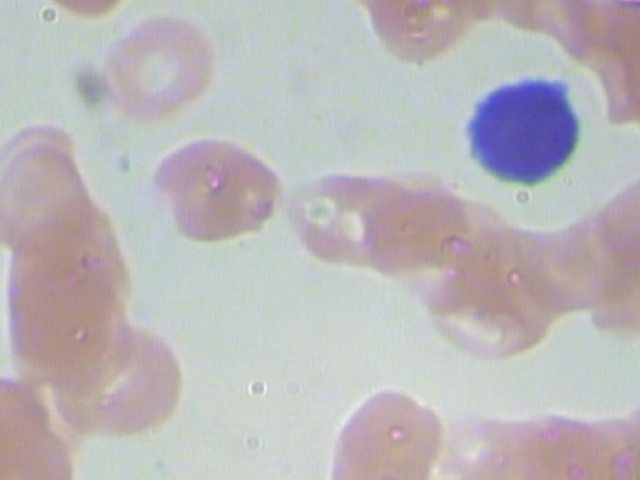RBC: (0, 239, 127, 386), (44, 316, 196, 437), (289, 157, 426, 273), (148, 133, 280, 248), (92, 13, 227, 123), (320, 382, 449, 480), (0, 142, 98, 251), (508, 215, 612, 313), (446, 406, 558, 480), (579, 402, 640, 480), (636, 254, 640, 356)
WBC: (456, 64, 600, 193)
